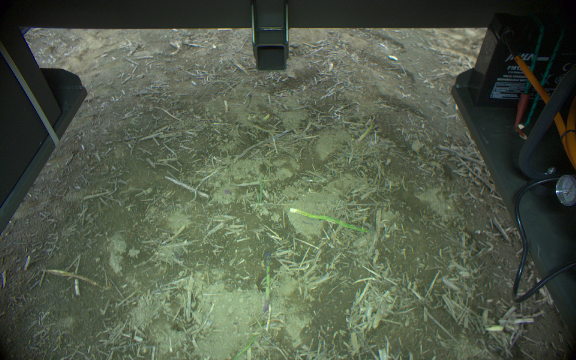aspa: (288, 206, 376, 236), (262, 250, 273, 314), (356, 118, 377, 144)
